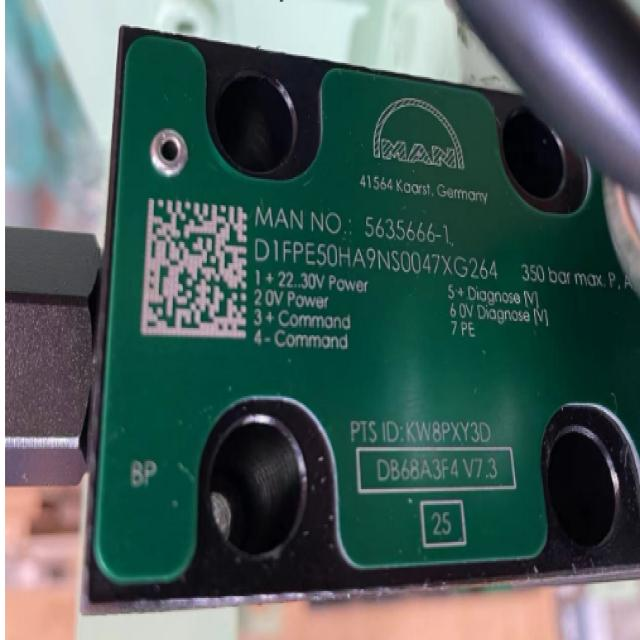dmc: (140, 198, 247, 339)
